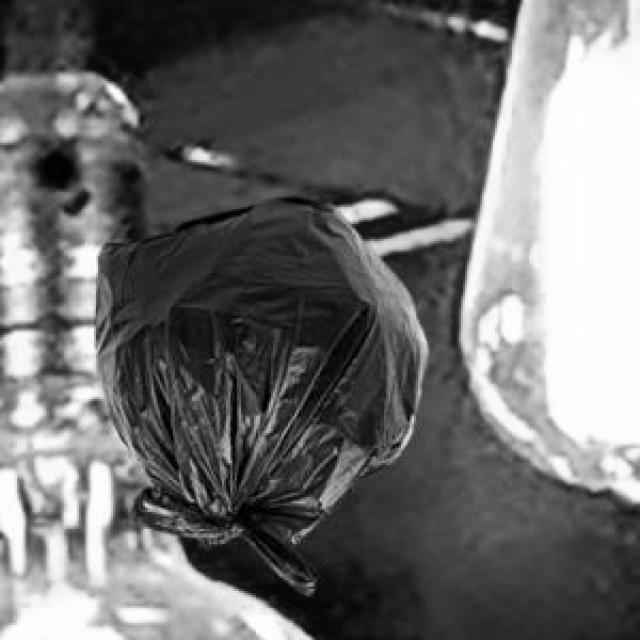miscellaneous trash: (92, 194, 425, 591)
